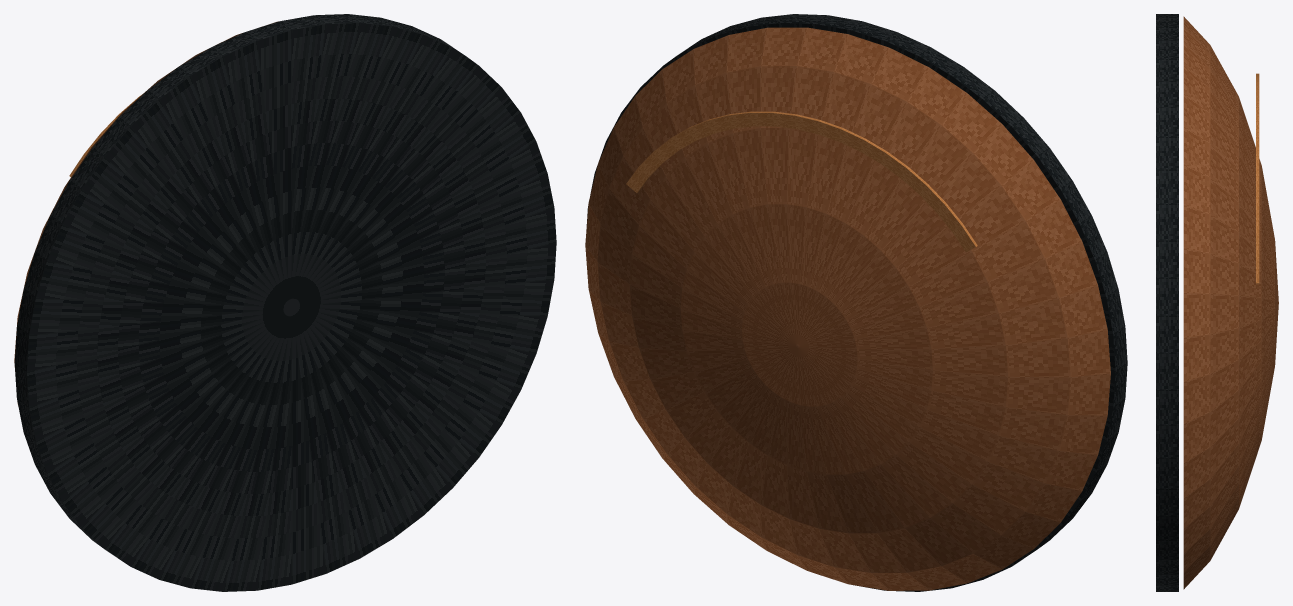
Rendered from destiny_door_controller_button_up_offset_1.obj.
The picture shows the model from 3 angles, left to right: view 1: azimuth 30°, elevation 25°; view 2: azimuth 150°, elevation 25°; view 3: azimuth 270°, elevation 25°; orthographic projection. The views are drawn at different scales.
Visible parts, largest first — view 1: Destiny_airlock_controller; view 2: Destiny_airlock_controller; view 3: Destiny_airlock_controller.
Part boxes in pixels (box(x1,y1,x2,y2)): Destiny_airlock_controller: box(14, 14, 556, 591); Destiny_airlock_controller: box(585, 14, 1127, 591); Destiny_airlock_controller: box(1156, 14, 1278, 591).
Bounding box in the file's own units: 0.2117 × 0.2117 × 0.0449.
